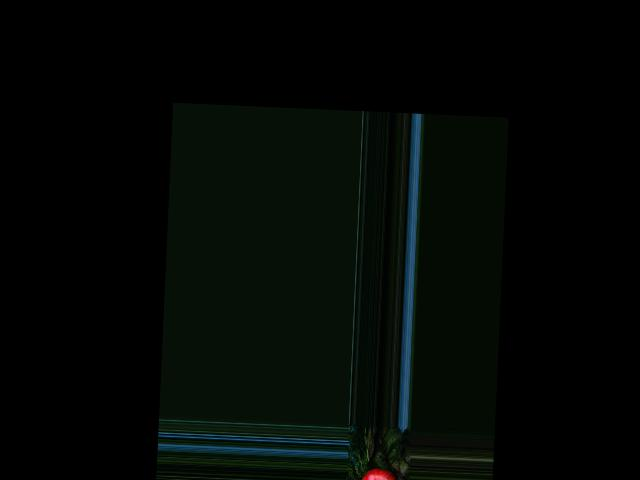tomato: (355, 468, 402, 480)
